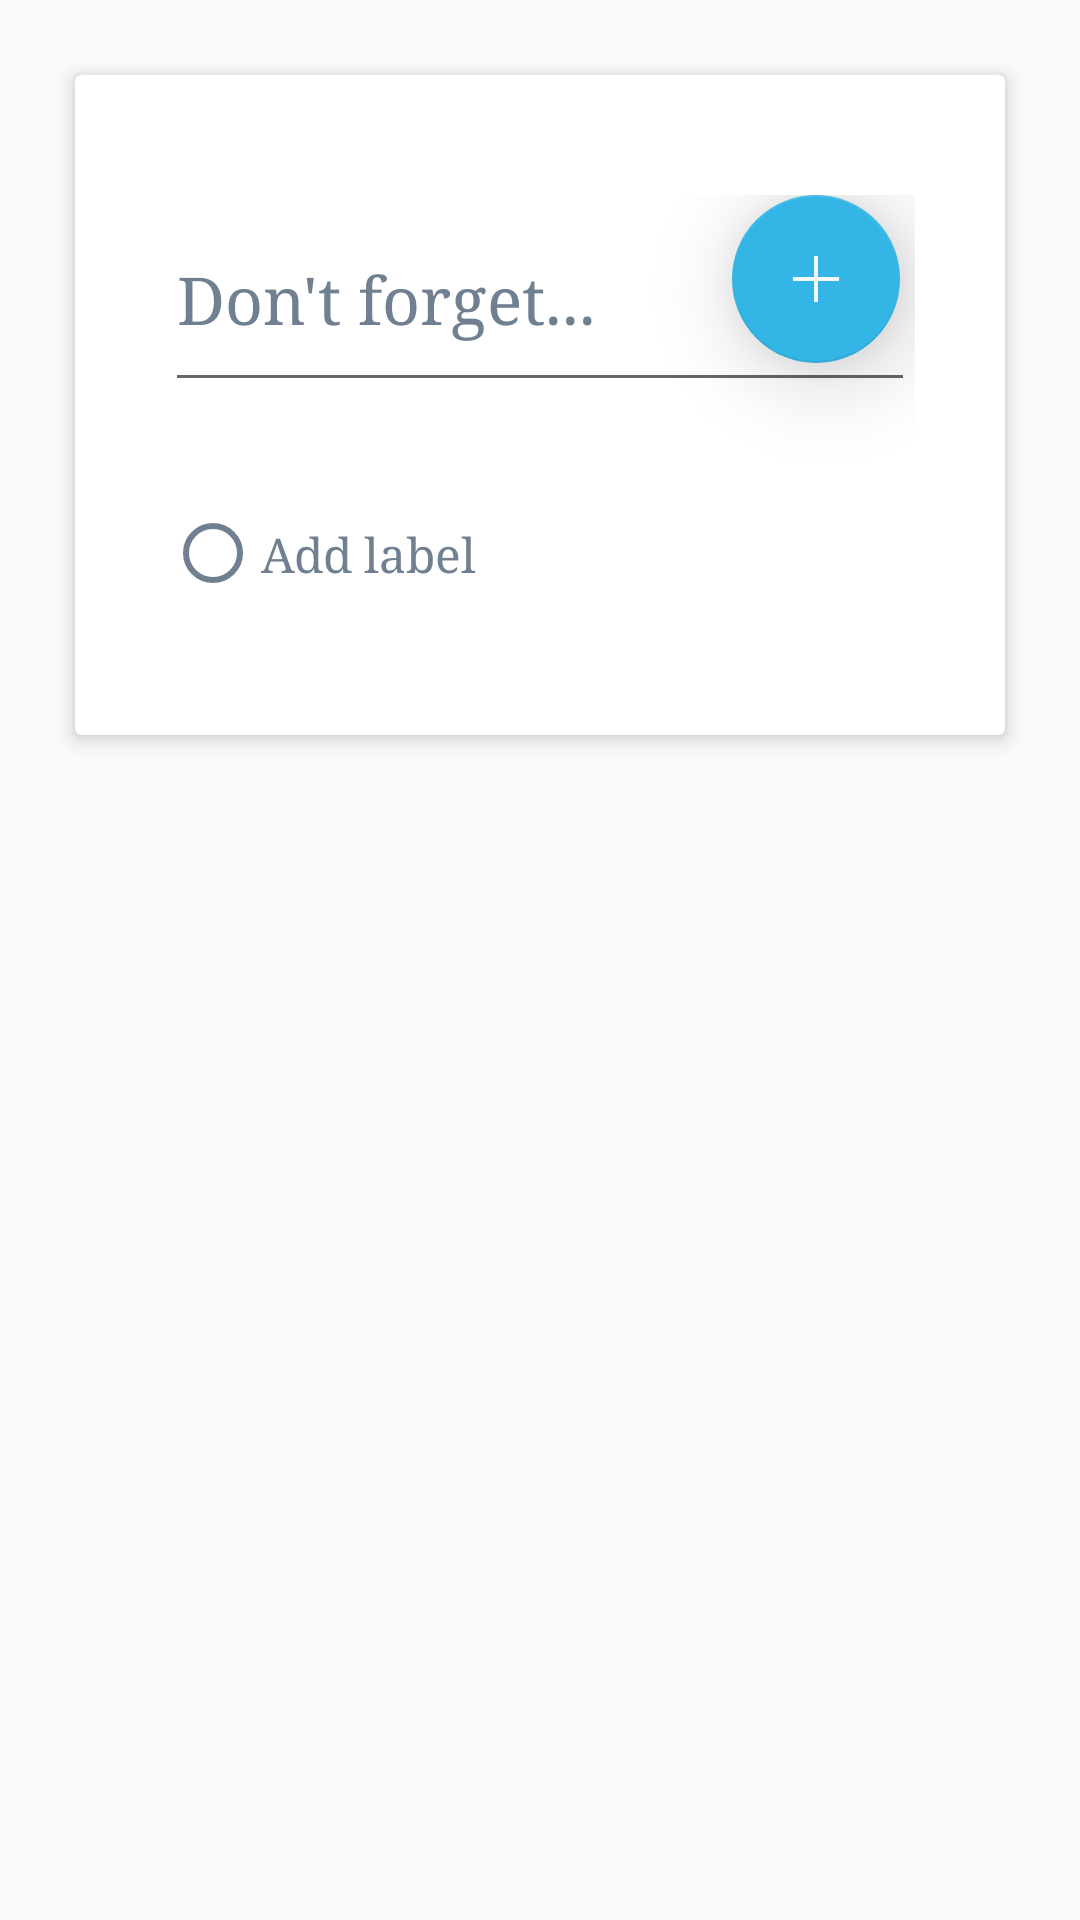

Where icons sit on this 1080 x 1920 app screen, as (x1, y1, x2, y2):
whitish add: (732, 195, 900, 363)
